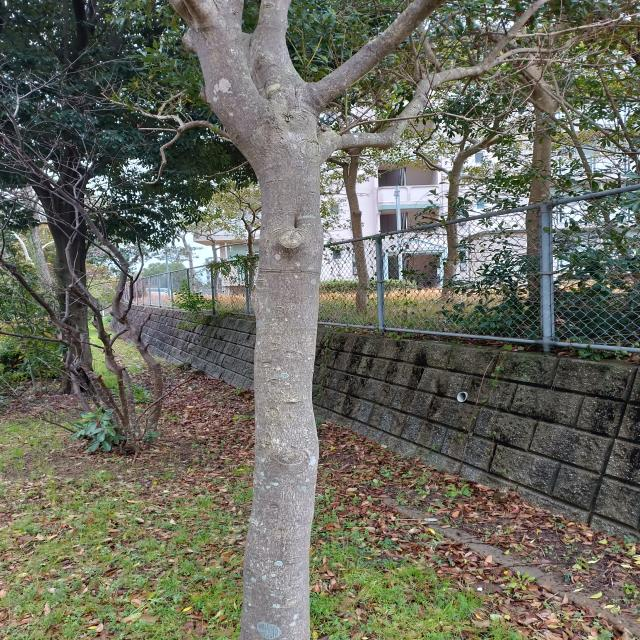Branch: (315, 59, 494, 166), (308, 0, 446, 117), (181, 0, 270, 133), (249, 0, 309, 98), (182, 0, 214, 24)
Twig: (484, 0, 552, 62), (491, 29, 595, 65), (138, 124, 185, 185), (102, 94, 159, 118), (158, 89, 186, 126), (502, 58, 618, 66), (184, 121, 230, 139)
